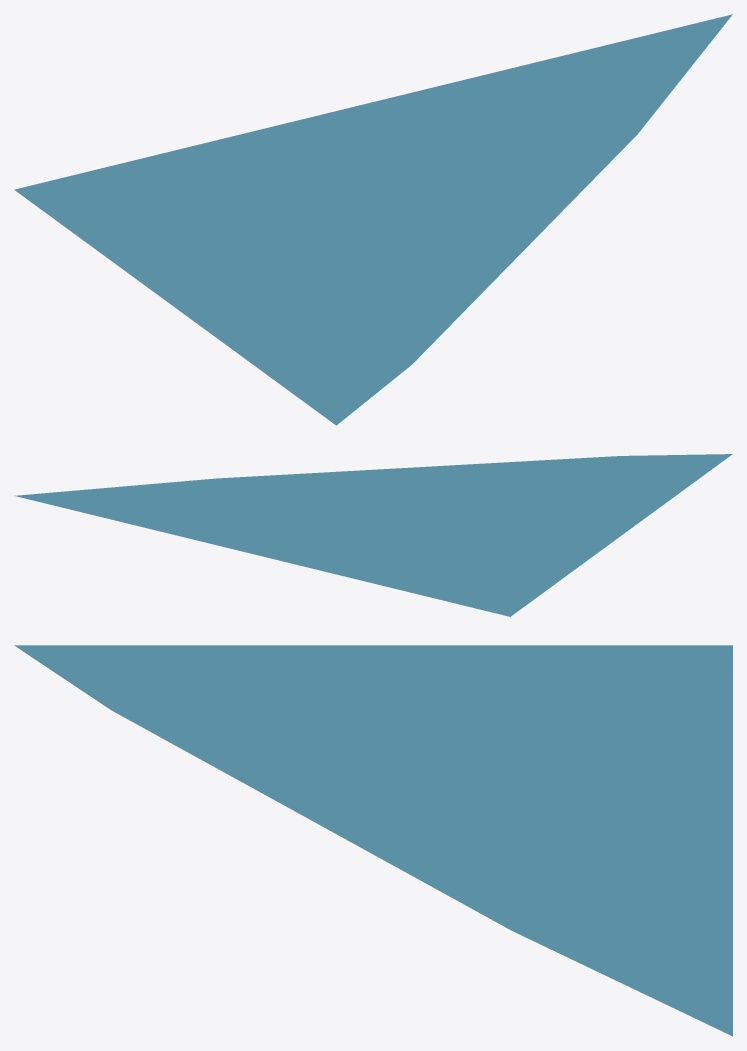
Rendered from nature_-3_8.glb.
3 views of the same model, one above another, from view 1: azimuth 30°, elevation 25°; view 2: azimuth 150°, elevation 25°; view 3: azimuth 270°, elevation 25° (orthographic). The views are drawn at different scales.
Parts seen in each view (by area): view 1: water; view 2: water; view 3: water.
Part boxes in pixels (x1=…): water: x1=14, y1=14, x2=732, y2=425; water: x1=14, y1=454, x2=732, y2=616; water: x1=14, y1=645, x2=732, y2=1036.
Size of the model in its own units: 49.66 by 0 by 38.57.
